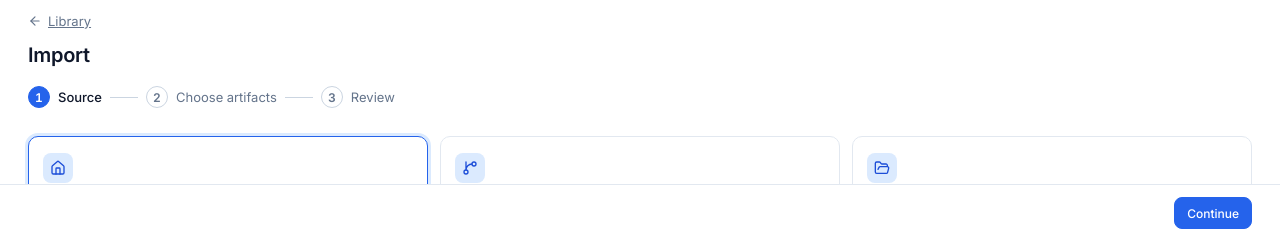
Test: Import: a split plugin needs Claude's answer › blocks an incomplete answer and lists the parts it misses
What coordinates should you click on to do the following:
click the button "Continue"
I would click on:
 (1213, 213)
Its box is 1174,197 -> 1252,229.
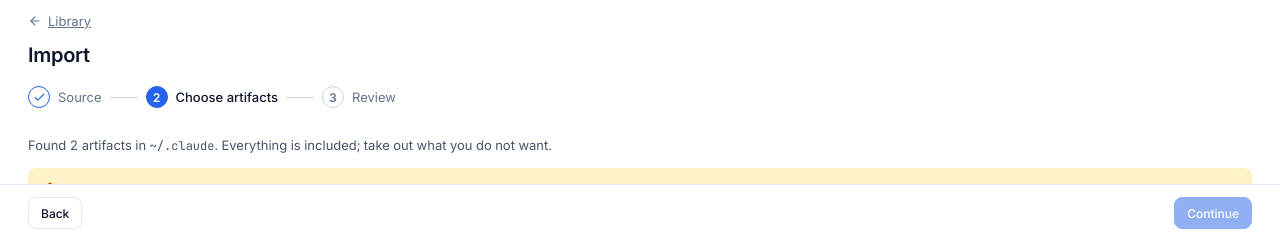
Expected: the button "Continue" is disabled, 1174,197 -> 1252,229
